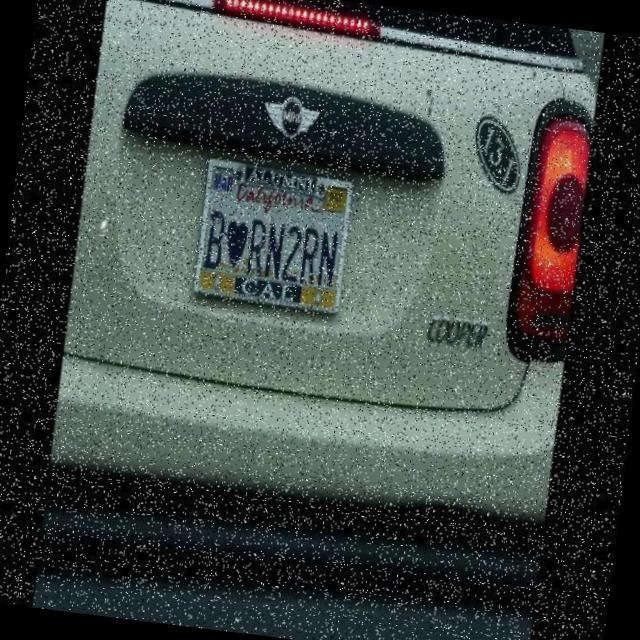LicensePlate: (180, 143, 370, 350)
